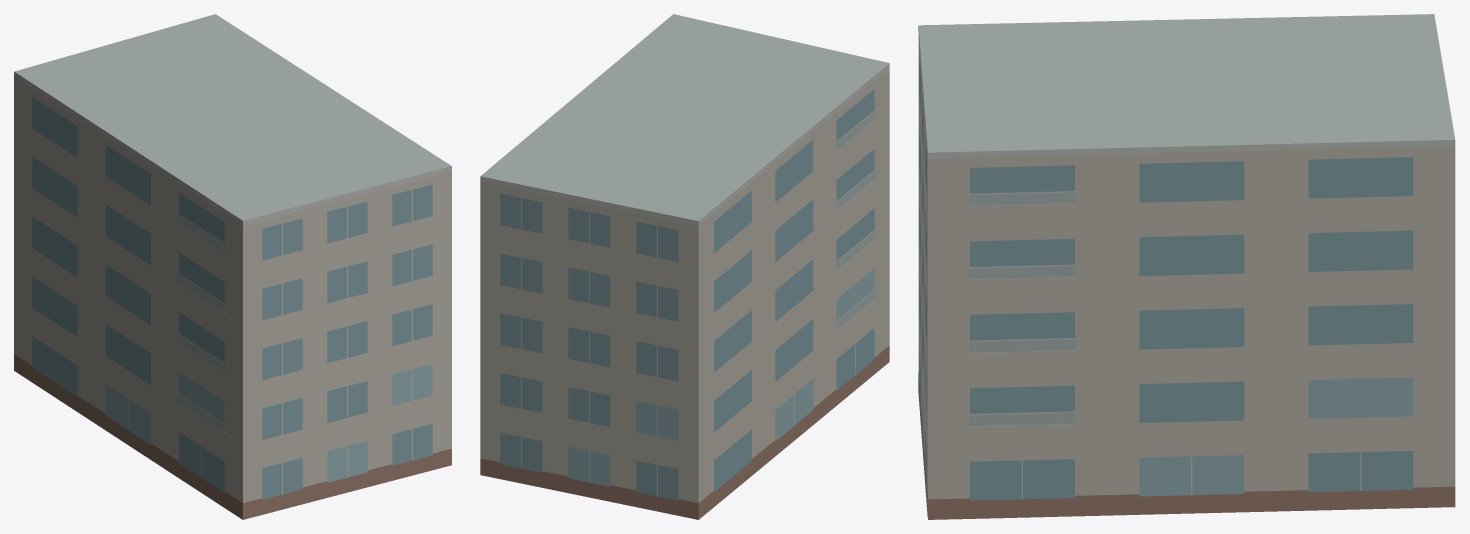
The model's file is survey-upis-32943426.glb.
The picture shows the model from 3 angles, left to right: view 1: azimuth 30°, elevation 25°; view 2: azimuth 150°, elevation 25°; view 3: azimuth 270°, elevation 25°; orthographic projection. The views are drawn at different scales.
Parts seen in each view (by area): view 1: survey-upis-32943426.tmp; view 2: survey-upis-32943426.tmp; view 3: survey-upis-32943426.tmp.
Boxes of the visible parts, left/top/right/bottom form: survey-upis-32943426.tmp: left=14, top=14, right=451, bottom=519; survey-upis-32943426.tmp: left=480, top=14, right=889, bottom=519; survey-upis-32943426.tmp: left=918, top=14, right=1455, bottom=519.
Size of the model in its own units: 11.75 by 14.5 by 19.22.
